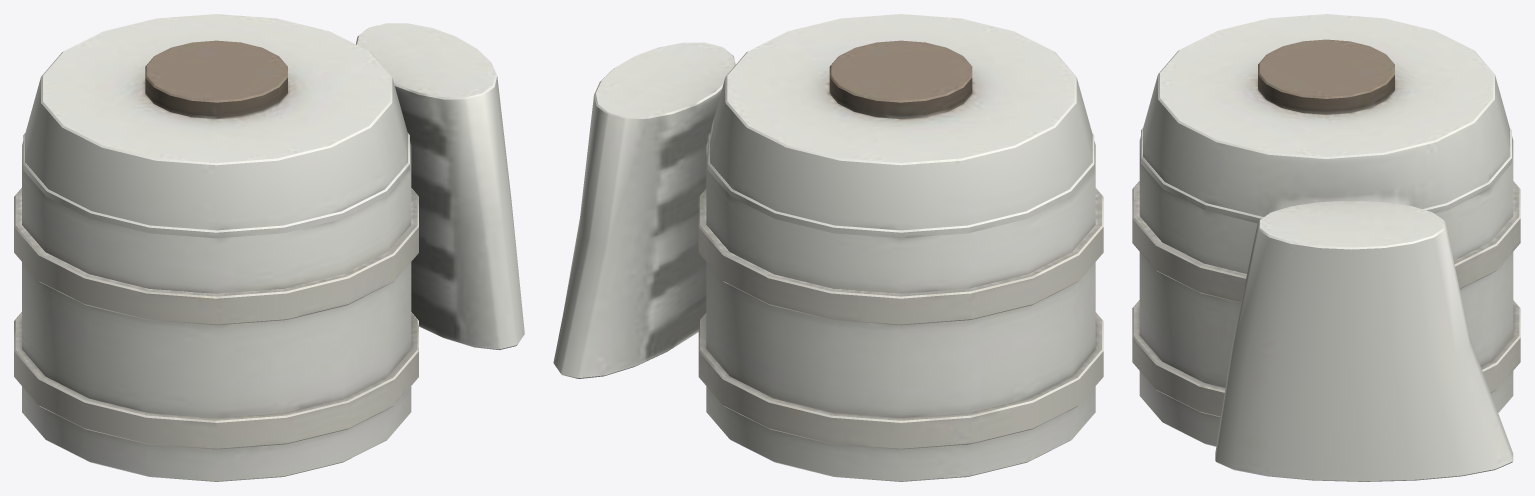
The model's file is IT_bandage.glb.
The picture shows the model from 3 angles, left to right: view 1: azimuth 30°, elevation 25°; view 2: azimuth 150°, elevation 25°; view 3: azimuth 270°, elevation 25°; orthographic projection. The views are drawn at different scales.
Parts seen in each view (by area): view 1: IT_bandage; view 2: IT_bandage; view 3: IT_bandage.
Boxes of the visible parts, x1=… form: IT_bandage: x1=14, y1=14, x2=524, y2=481; IT_bandage: x1=553, y1=14, x2=1103, y2=481; IT_bandage: x1=1132, y1=14, x2=1520, y2=481.
Size of the model in its own units: 0.4059 by 0.275 by 0.3073.
Materials: 1 (1 with a texture image).
